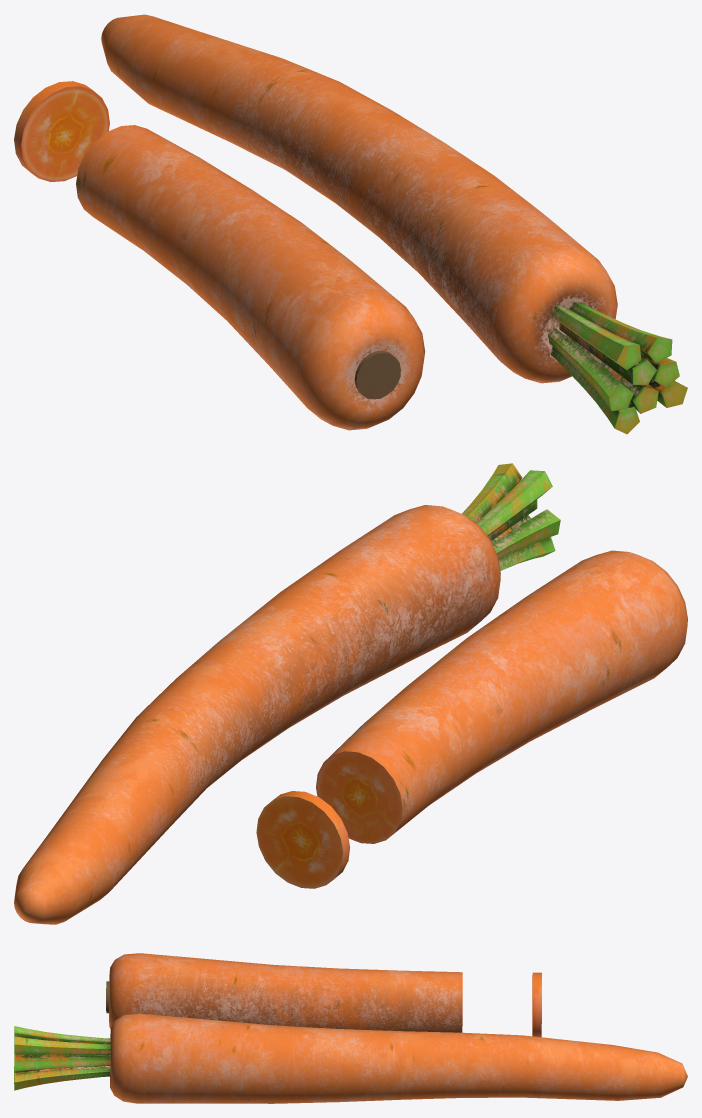
The model's file is carrot_collection.glb.
3 renders of one model, top to bottom at view 1: azimuth 30°, elevation 25°; view 2: azimuth 150°, elevation 25°; view 3: azimuth 270°, elevation 25°, orthographic. The views are drawn at different scales.
Parts seen in each view (by area): view 1: Carrot_Low; view 2: Carrot_Low; view 3: Carrot_Low.
Part boxes in pixels (<box>): Carrot_Low: <box>14,14,687,434</box>; Carrot_Low: <box>14,463,687,924</box>; Carrot_Low: <box>14,953,687,1103</box>.
Bounding box in the file's own units: 0.0951 × 0.0363 × 0.2651.
Materials: 1 (1 with a texture image).
